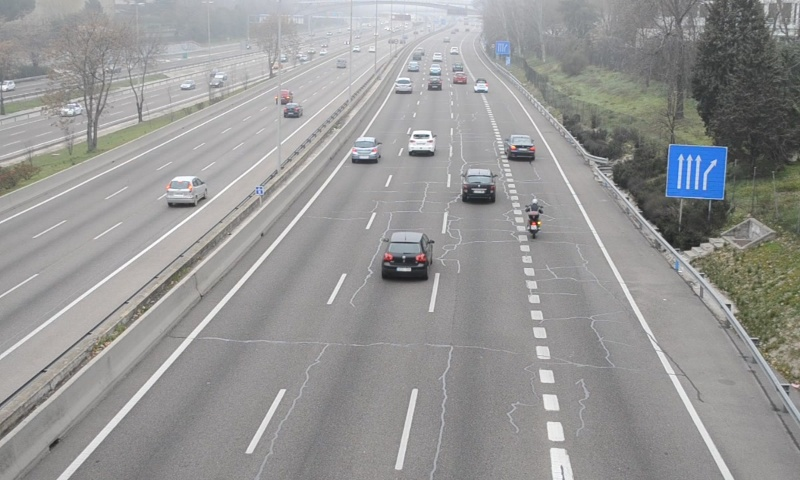car: (382, 232, 432, 280), (462, 170, 496, 202), (504, 134, 536, 159), (350, 137, 381, 162), (408, 130, 436, 155), (394, 76, 412, 94), (474, 78, 488, 94)
motorcycle: (524, 196, 544, 240)
